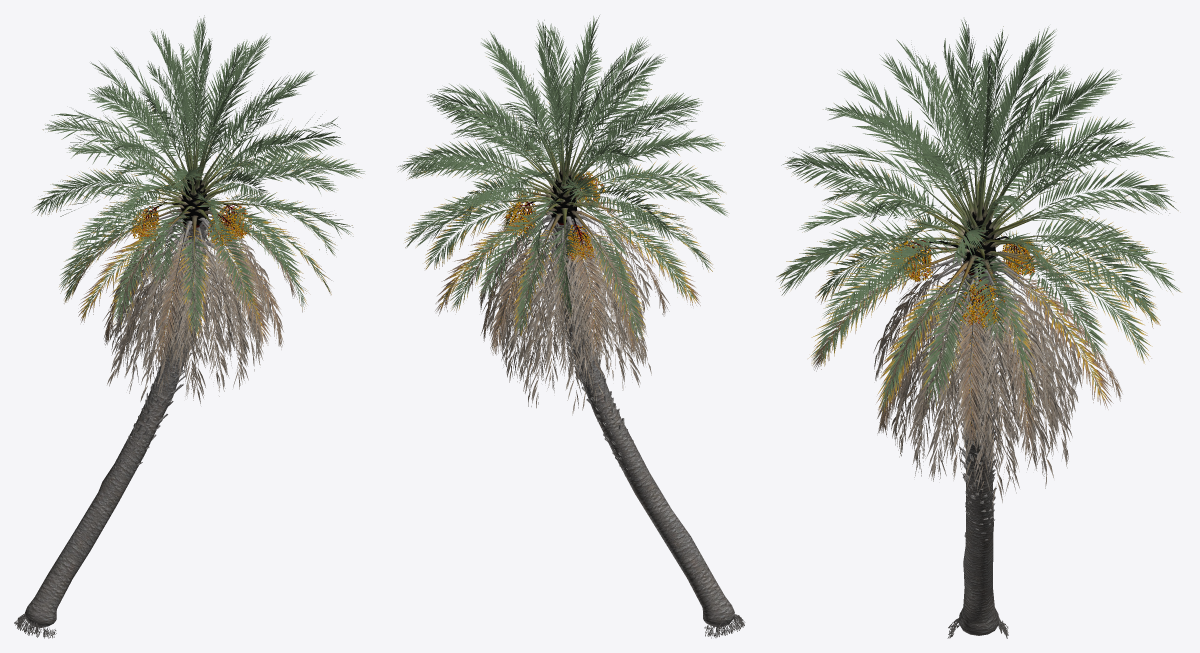
The model's file is assets__models__palm_b.glb.
3 renders of one model, left to right at view 1: azimuth 30°, elevation 25°; view 2: azimuth 150°, elevation 25°; view 3: azimuth 270°, elevation 25°, orthographic. The views are drawn at different scales.
Parts seen in each view (by area): view 1: Phoenix_dactylifera_HD; view 2: Phoenix_dactylifera_HD; view 3: Phoenix_dactylifera_HD.
Boxes of the visible parts, x1,y1,x2,y2 form: Phoenix_dactylifera_HD: (14, 15, 364, 638); Phoenix_dactylifera_HD: (398, 15, 745, 638); Phoenix_dactylifera_HD: (776, 19, 1181, 638).
Bounding box in the file's own units: 8.26 × 13.35 × 7.19.
18 materials, 18 textured.
